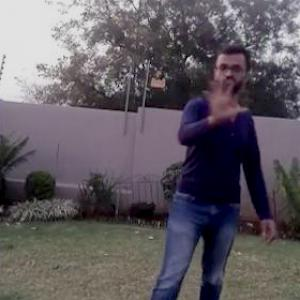follow_hand: (202, 73, 246, 120)
